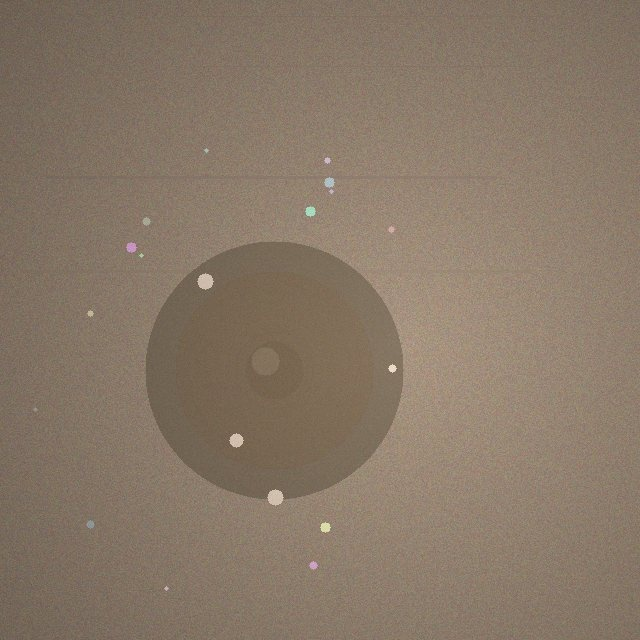overburn: (145, 241, 403, 499)
